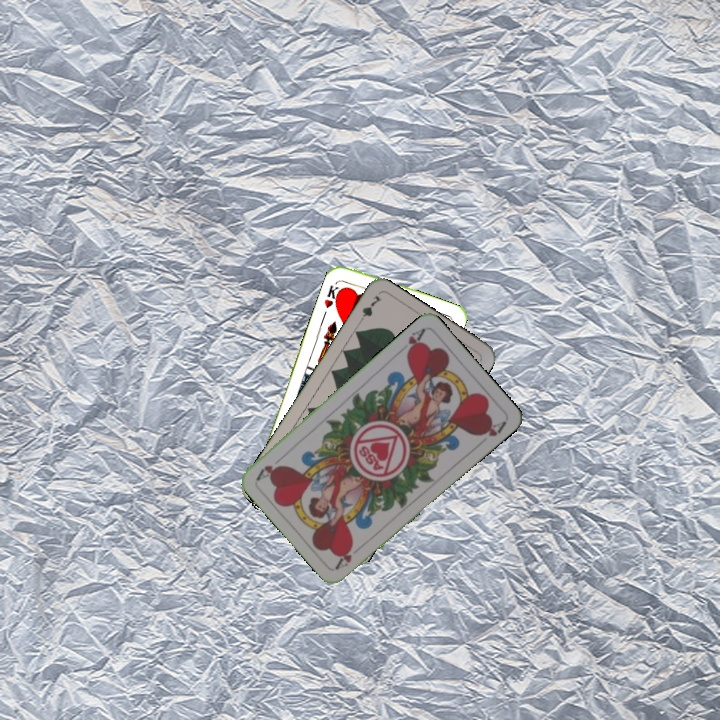G7: (354, 291, 384, 327)
HA: (394, 324, 427, 358), (331, 540, 366, 572)
HK: (320, 277, 345, 311)
